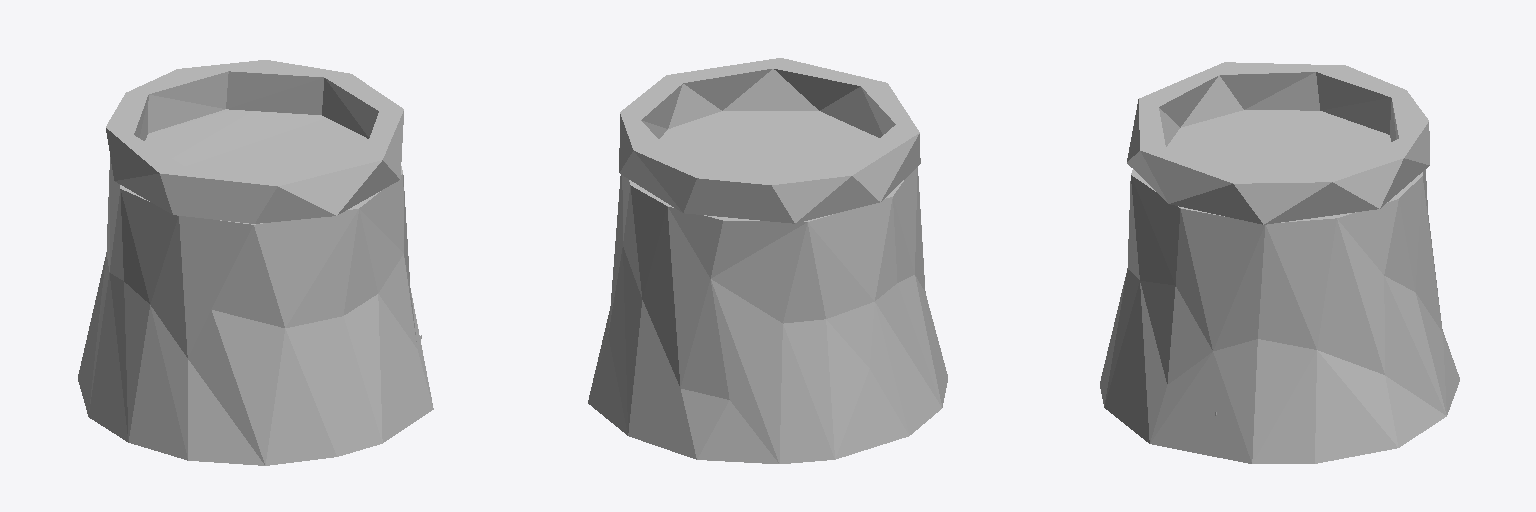
The picture shows the model from 3 angles: view 1: azimuth 30°, elevation 25°; view 2: azimuth 150°, elevation 25°; view 3: azimuth 270°, elevation 25°; orthographic projection.
Visible parts, largest first — view 1: base_object.009; view 2: base_object.009; view 3: base_object.009.
Boxes of the visible parts, <box> form: base_object.009: <box>78,60,433,465</box>; base_object.009: <box>588,58,947,463</box>; base_object.009: <box>1100,62,1459,463</box>.
Bounding box in the file's own units: 0.1444 × 0.119 × 0.1461.